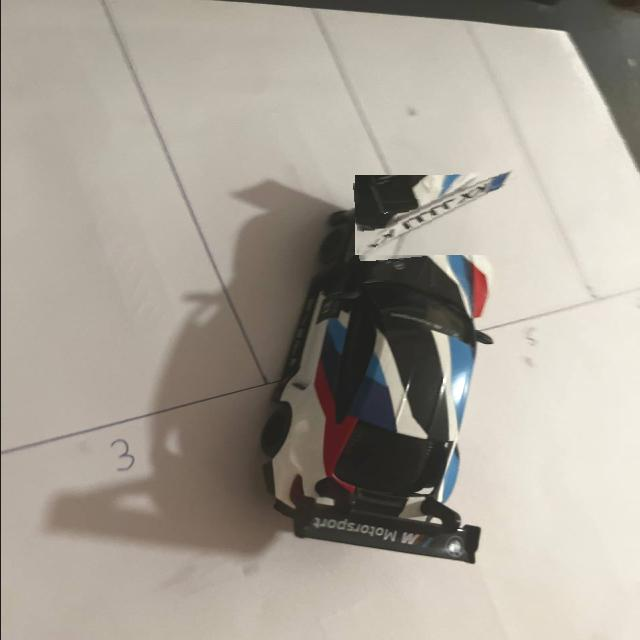KX 7777 KX: (359, 169, 514, 261)
